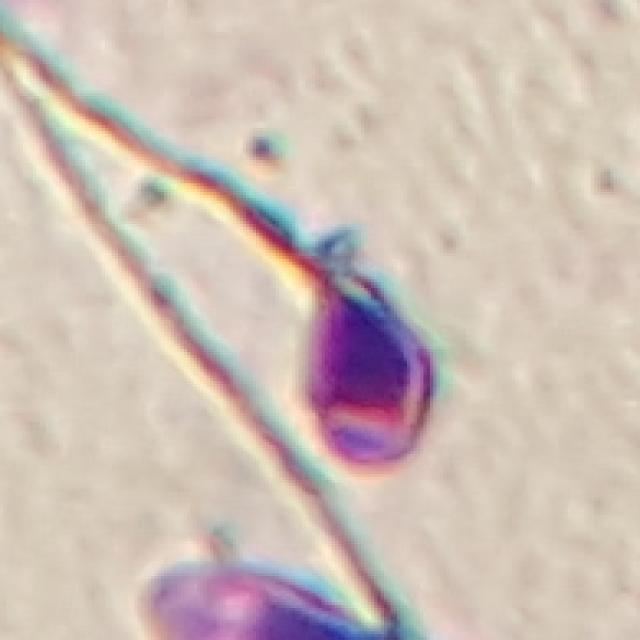normal sperm: (235, 197, 440, 469)
